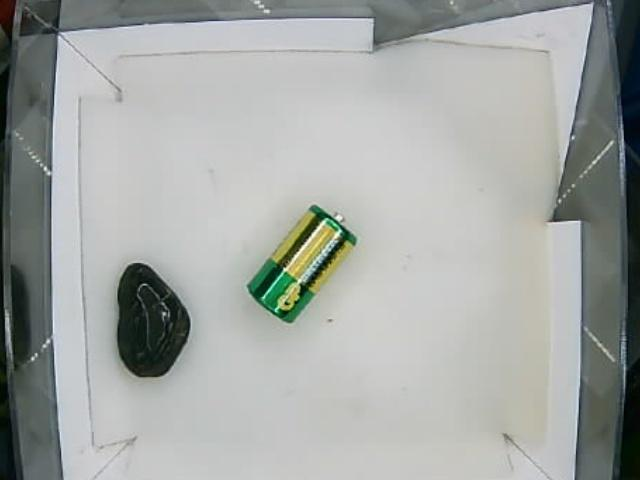Battery: (246, 201, 357, 325)
Pebble: (115, 263, 190, 374)
